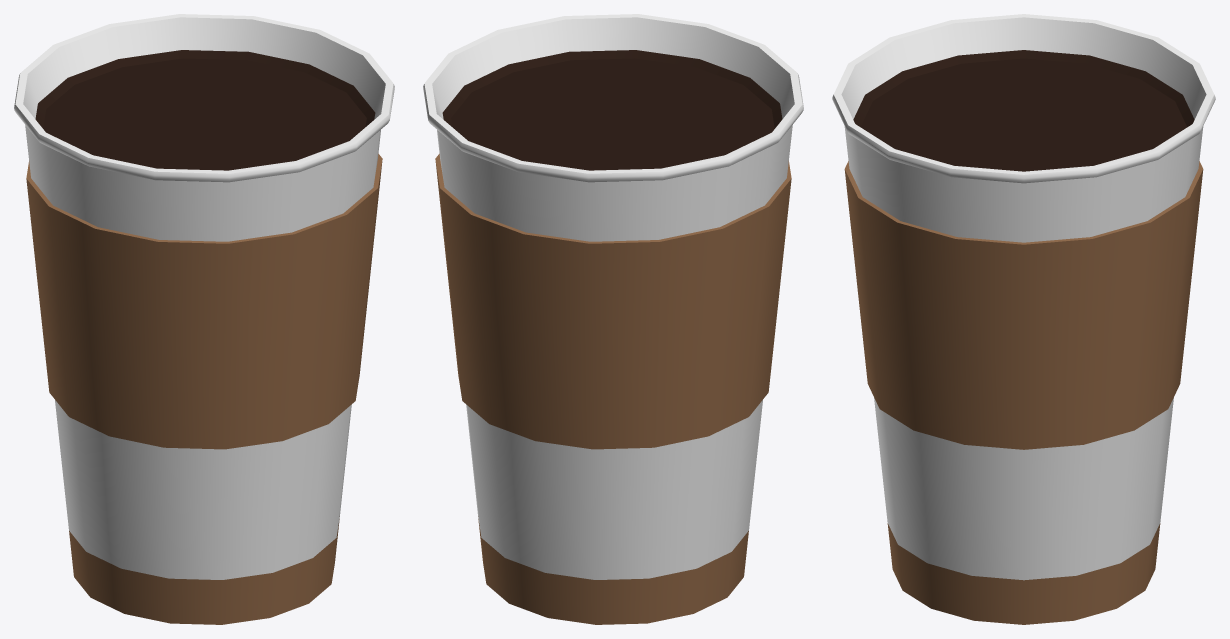
The model's file is coffee_cup_full.fbx.
The picture shows the model from 3 angles, left to right: view 1: azimuth 30°, elevation 25°; view 2: azimuth 150°, elevation 25°; view 3: azimuth 270°, elevation 25°; orthographic projection.
Parts seen in each view (by area): view 1: CoffeeCup; view 2: CoffeeCup; view 3: CoffeeCup.
Boxes of the visible parts, x1,y1,x2,y2 form: CoffeeCup: [14, 14, 394, 624]; CoffeeCup: [423, 14, 803, 624]; CoffeeCup: [832, 14, 1215, 624].
Bounding box in the file's own units: 45.49 × 62.2 × 45.49.
